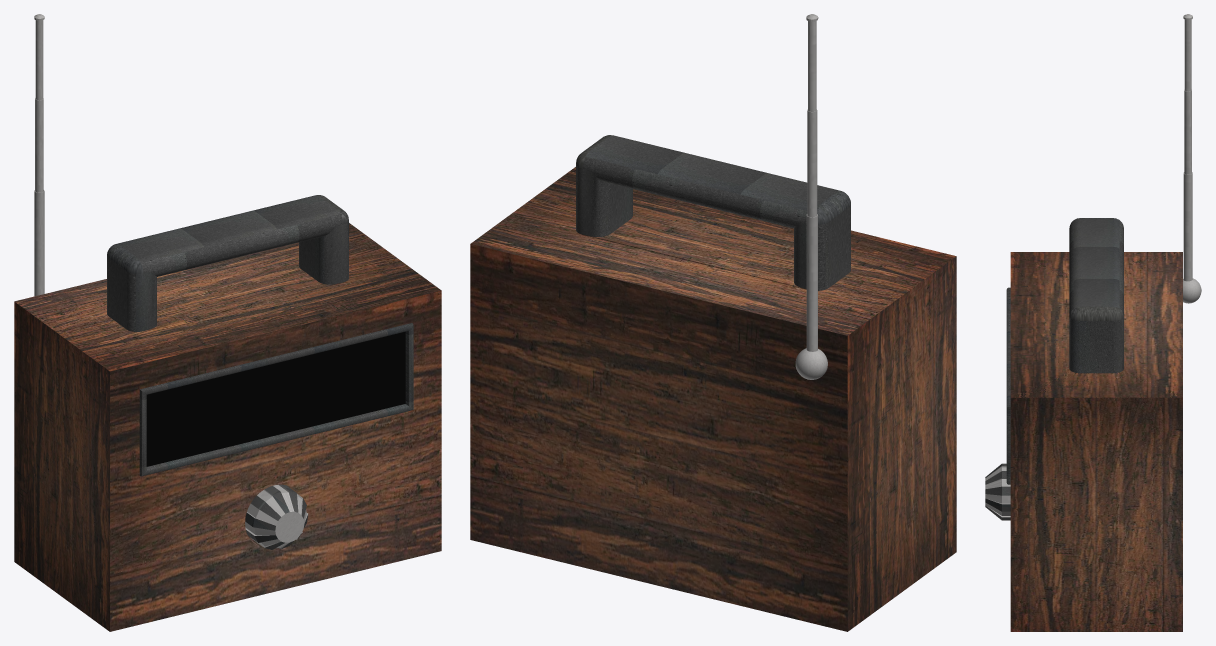
File: Radio all parts.fbx
The picture shows the model from 3 angles, left to right: view 1: azimuth 30°, elevation 25°; view 2: azimuth 150°, elevation 25°; view 3: azimuth 270°, elevation 25°; orthographic projection. The views are drawn at different scales.
Parts seen in each view (by area): view 1: pCube1, pCylinder3, pCylinder2; view 2: pCube1, pCylinder2; view 3: pCube1, pCylinder2, pCylinder3.
Part boxes in pixels (x1,y1,x2,y2): pCube1: [14, 195, 441, 631]; pCylinder3: [245, 484, 308, 549]; pCylinder2: [34, 14, 44, 296]; pCube1: [470, 135, 956, 631]; pCylinder2: [795, 14, 827, 379]; pCube1: [1006, 218, 1182, 631]; pCylinder2: [1183, 14, 1201, 303]; pCylinder3: [985, 463, 1010, 520].
Size of the model in its own units: 2 by 3.1 by 1.25.
Materials: 6 (5 with a texture image).
